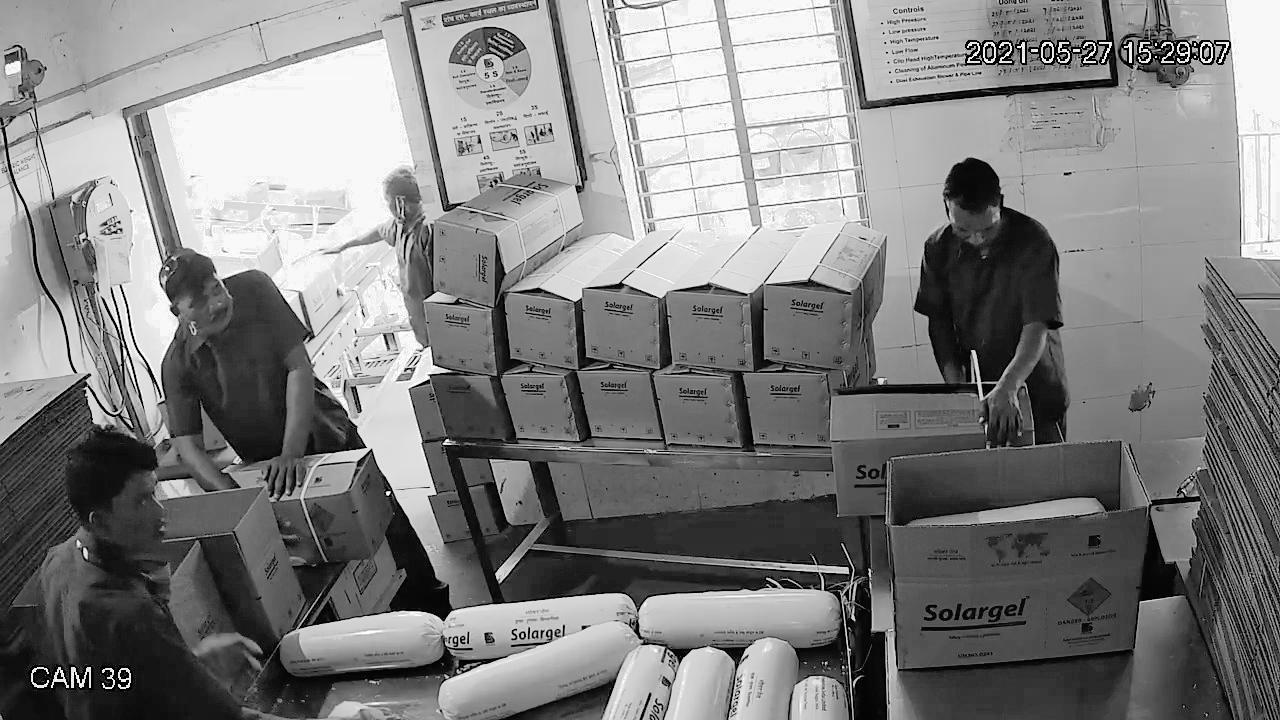no-welding-glass: (154, 273, 237, 318)
person: (0, 426, 247, 717), (157, 252, 354, 492), (915, 157, 1070, 449)
